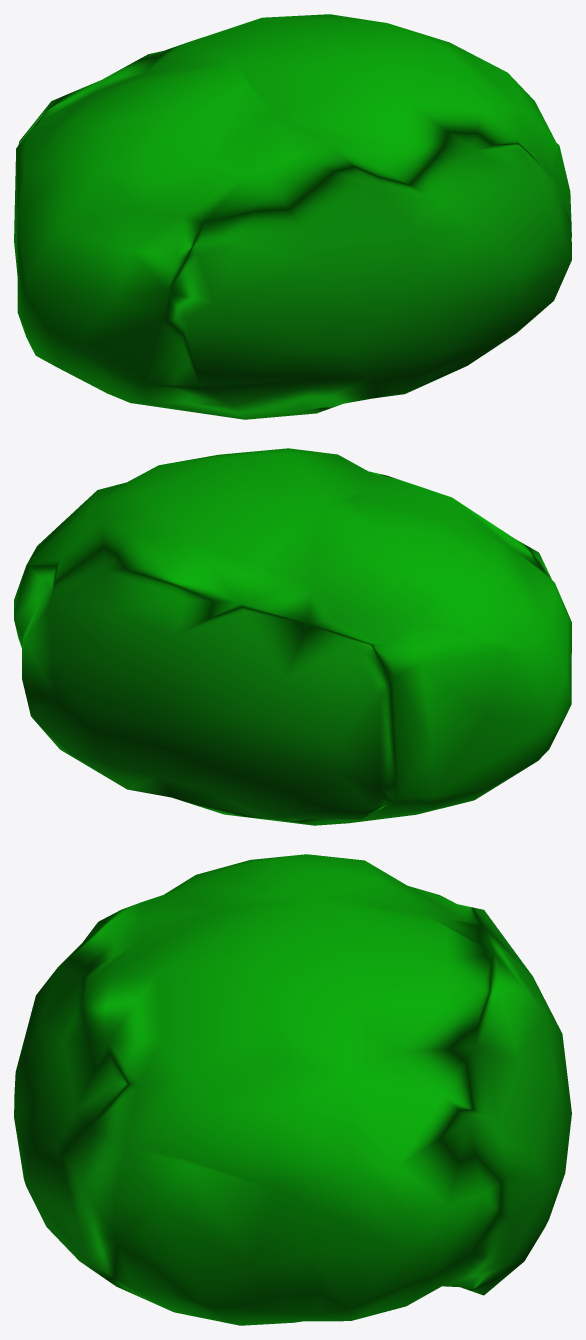
Rendered from rock_small_a.glb.
The picture shows the model from 3 angles, top to bottom: view 1: azimuth 30°, elevation 25°; view 2: azimuth 150°, elevation 25°; view 3: azimuth 270°, elevation 25°; orthographic projection. The views are drawn at different scales.
Visible parts, largest first — view 1: LOD0; view 2: LOD0; view 3: LOD0.
Part boxes in pixels (left/top/right/bottom): LOD0: left=14, top=14, right=571, bottom=419; LOD0: left=14, top=448, right=571, bottom=825; LOD0: left=14, top=854, right=571, bottom=1325.
Size of what is drawn, in the model's own units: 0.5081 by 0.2787 by 0.4176.
